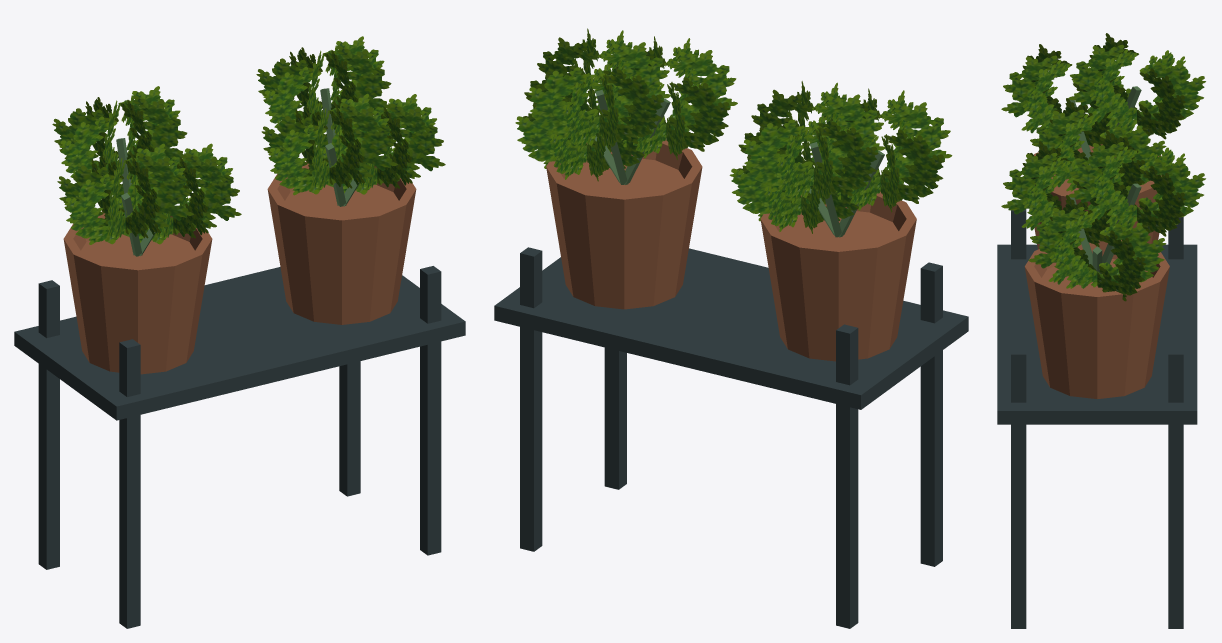
3 renders of one model, left to right at view 1: azimuth 30°, elevation 25°; view 2: azimuth 150°, elevation 25°; view 3: azimuth 270°, elevation 25°, orthographic. The views are drawn at different scales.
Visible parts, largest first — view 1: a08; view 2: a08; view 3: a08.
Part boxes in pixels (bbox=[...]): a08: bbox=[14, 36, 465, 628]; a08: bbox=[494, 28, 968, 628]; a08: bbox=[997, 33, 1205, 628].
Bounding box in the file's own units: 0.7271 × 0.8444 × 0.347.
2 materials, 1 textured.
